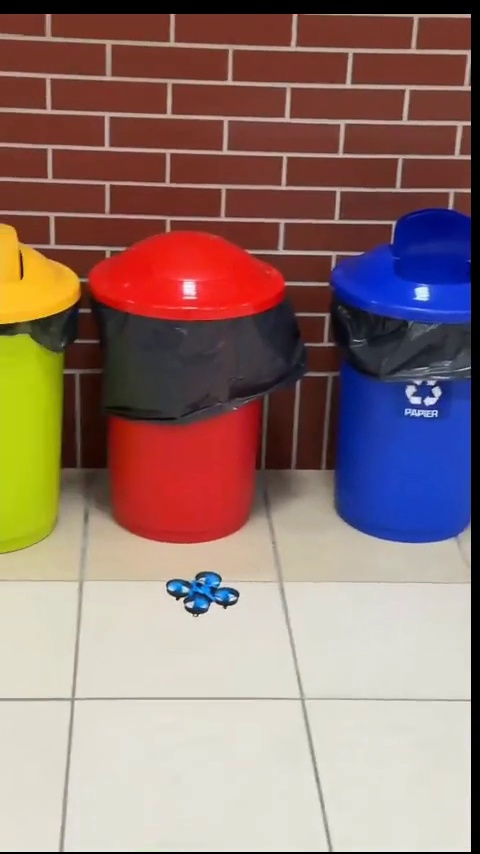drone: (166, 570, 236, 613)
